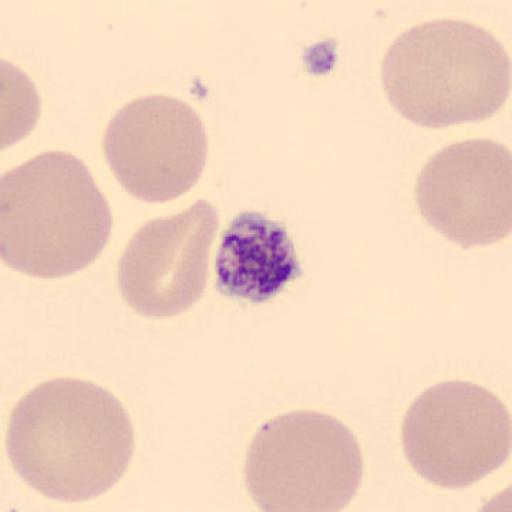Platelet: (211, 208, 307, 305)
RBC: (5, 374, 137, 506), (2, 148, 116, 282), (379, 16, 511, 130), (398, 378, 512, 492), (115, 197, 221, 319), (242, 409, 365, 512), (100, 91, 210, 205), (413, 136, 511, 249), (2, 56, 42, 151), (471, 482, 512, 512)
